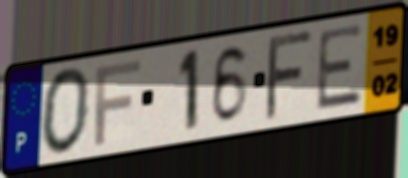1: (176, 46, 202, 136)
6: (209, 43, 249, 127)
E: (314, 21, 366, 114)
F: (262, 27, 317, 125), (92, 57, 143, 148)
O: (39, 65, 93, 157)
